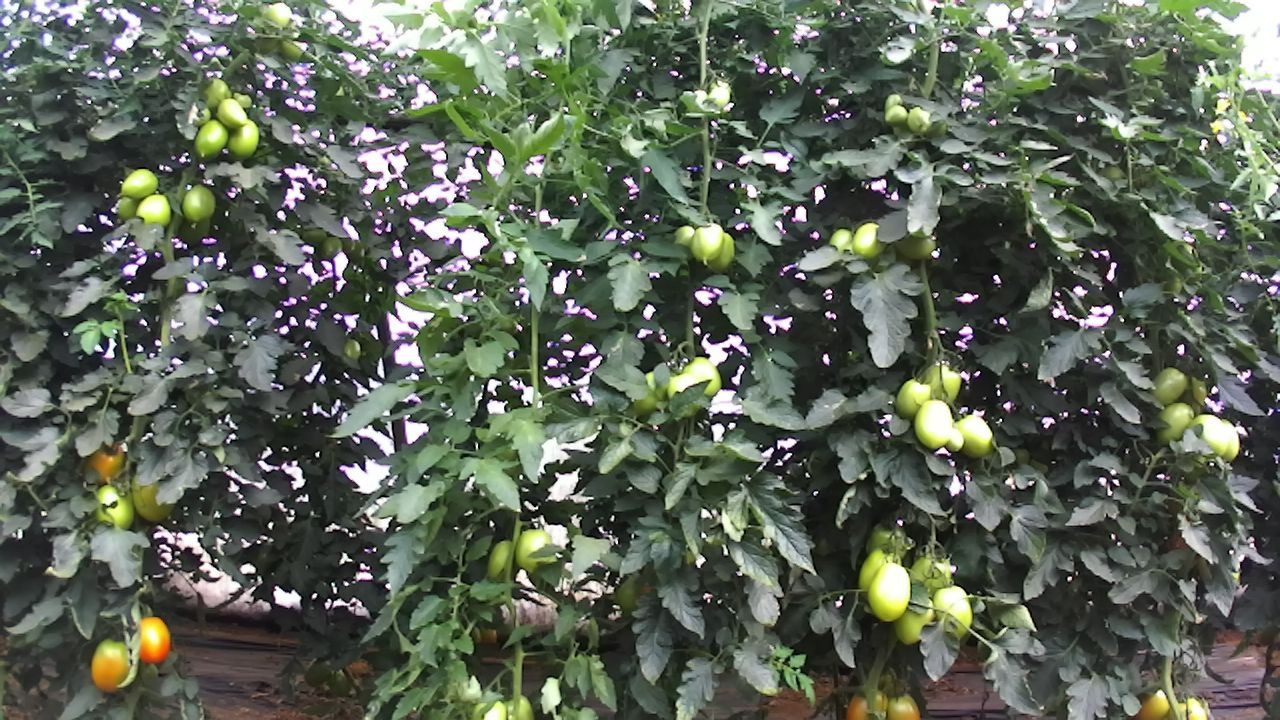tomato: (87, 633, 135, 697), (864, 560, 912, 624), (928, 581, 976, 644), (129, 471, 181, 527), (90, 479, 139, 533), (890, 593, 936, 648), (1151, 396, 1198, 447), (82, 437, 128, 489), (911, 396, 954, 451), (511, 526, 554, 576), (952, 412, 996, 460), (134, 614, 173, 668), (1146, 363, 1189, 410), (190, 116, 231, 163), (892, 375, 932, 422), (890, 227, 940, 263), (689, 220, 725, 267), (850, 220, 889, 263), (116, 165, 159, 203), (226, 117, 260, 162), (179, 182, 216, 223), (134, 192, 172, 228), (214, 95, 249, 130), (884, 689, 922, 720), (315, 233, 345, 262), (883, 101, 909, 128), (944, 425, 965, 454)
